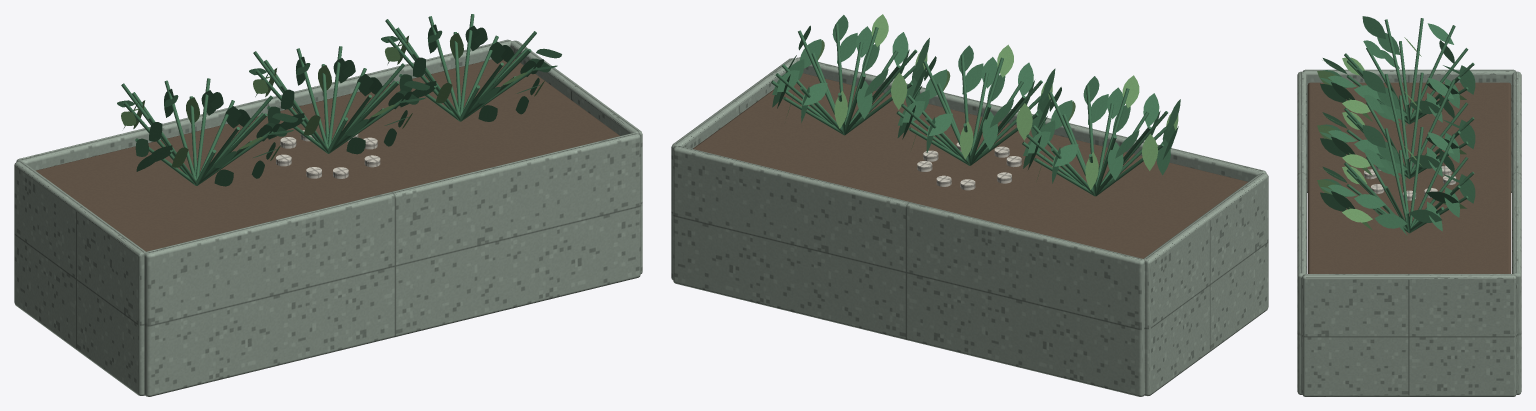
The model's file is detail-plant-box-1.glb.
3 renders of one model, left to right at view 1: azimuth 30°, elevation 25°; view 2: azimuth 150°, elevation 25°; view 3: azimuth 270°, elevation 25°, orthographic. The views are drawn at different scales.
Visible parts, largest first — view 1: pot_wall (×4), soil_surface; view 2: pot_wall (×4), soil_surface; view 3: pot_wall (×4), soil_surface, leaf_blade (×27), plant_stem (×12).
Boxes of the visible parts, x1,y1,x2,y2 form: pot_wall (×4): [14, 39, 642, 396]; soil_surface: [36, 59, 619, 251]; pot_wall (×4): [671, 57, 1268, 396]; soil_surface: [693, 73, 1247, 258]; pot_wall (×4): [1297, 69, 1521, 396]; soil_surface: [1307, 82, 1511, 273]; leaf_blade (×27): [1320, 16, 1475, 228]; plant_stem (×12): [1384, 18, 1455, 228].
Bounding box in the file's own units: 1.84 × 0.8142 × 0.835.
5 materials, 5 textured.
